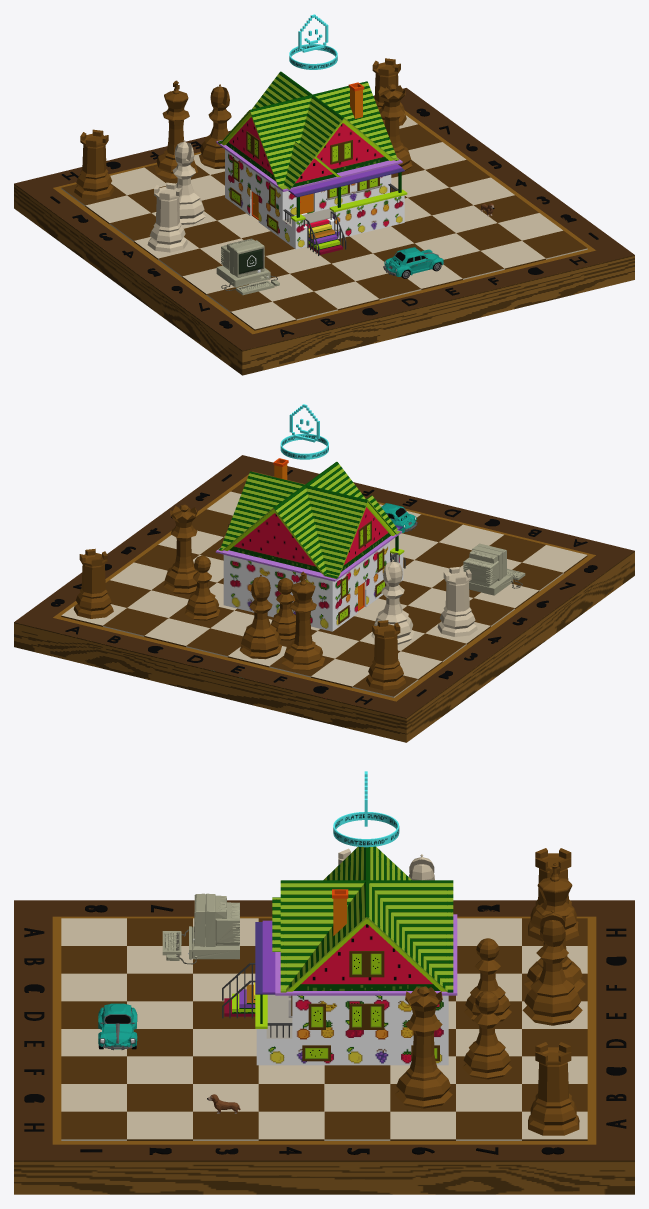
3 renders of one model, top to bottom at view 1: azimuth 30°, elevation 25°; view 2: azimuth 150°, elevation 25°; view 3: azimuth 270°, elevation 25°, orthographic. The views are drawn at different scales.
Parts seen in each view (by area): view 1: Cube.002, Cube.1063, OBJRANDOM_RETRO_PC, VEHICLES_VOLKSWAGEN, TYPE_PREMIUM; view 2: Cube.002, Cube.1063, OBJRANDOM_RETRO_PC, TYPE_PREMIUM, VEHICLES_VOLKSWAGEN; view 3: Cube.002, Cube.1063, OBJRANDOM_RETRO_PC, VEHICLES_VOLKSWAGEN, TYPE_PREMIUM.
Boxes of the visible parts, x1,y1,x2,y2 form: Cube.002: (14, 58, 634, 375); Cube.1063: (216, 71, 407, 255); OBJRANDOM_RETRO_PC: (216, 238, 279, 295); VEHICLES_VOLKSWAGEN: (383, 247, 444, 278); TYPE_PREMIUM: (289, 14, 337, 69); Cube.002: (14, 455, 634, 742); Cube.1063: (215, 458, 405, 631); OBJRANDOM_RETRO_PC: (463, 543, 525, 595); TYPE_PREMIUM: (280, 404, 328, 459); VEHICLES_VOLKSWAGEN: (381, 503, 417, 532); Cube.002: (14, 848, 634, 1194); Cube.1063: (222, 846, 457, 1065); OBJRANDOM_RETRO_PC: (162, 893, 239, 964); VEHICLES_VOLKSWAGEN: (98, 1003, 137, 1050); TYPE_PREMIUM: (333, 771, 399, 847).
Bounding box in the file's own units: 3981 × 2155 × 4012.
38 materials, 5 textured.
